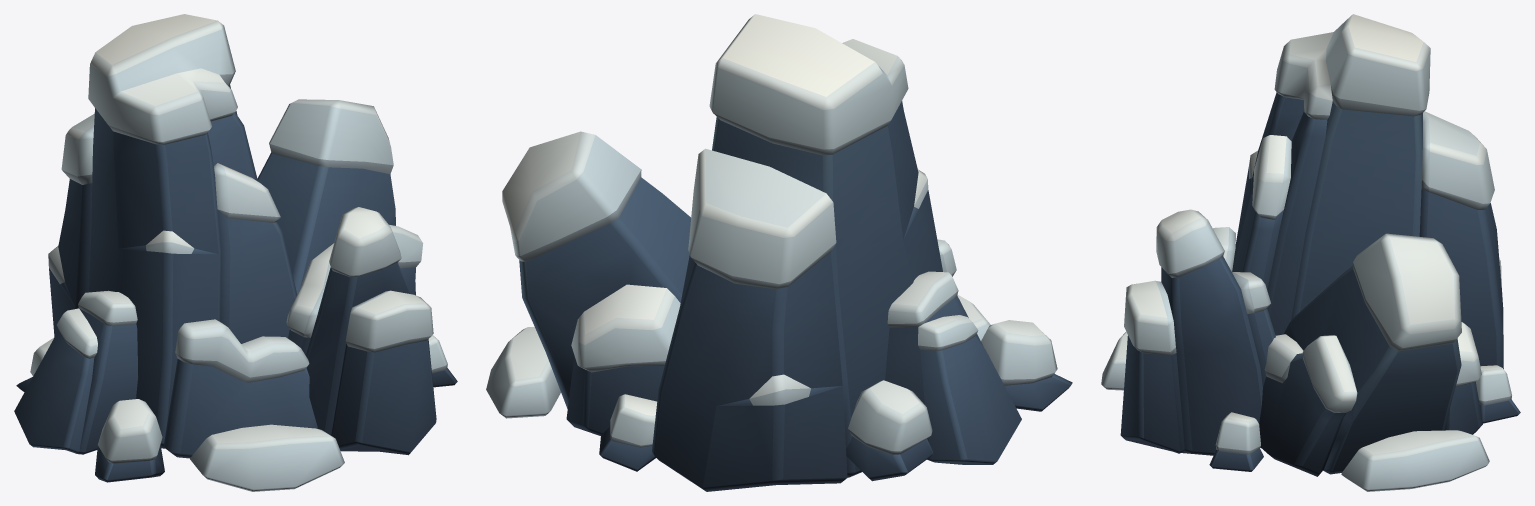
File: rock_group_medium_snow_1.fbx
The picture shows the model from 3 angles, left to right: view 1: azimuth 30°, elevation 25°; view 2: azimuth 150°, elevation 25°; view 3: azimuth 270°, elevation 25°; orthographic projection. The views are drawn at different scales.
Parts seen in each view (by area): view 1: rock_arrangement_medium_snow_1; view 2: rock_arrangement_medium_snow_1; view 3: rock_arrangement_medium_snow_1.
Boxes of the visible parts, x1,y1,x2,y2 form: rock_arrangement_medium_snow_1: (14, 14, 457, 491); rock_arrangement_medium_snow_1: (486, 14, 1072, 491); rock_arrangement_medium_snow_1: (1101, 14, 1520, 491).
Bounding box in the file's own units: 538 × 480 × 480.
